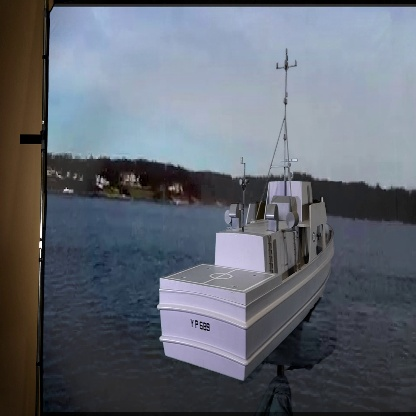YP689: (153, 49, 343, 379)
